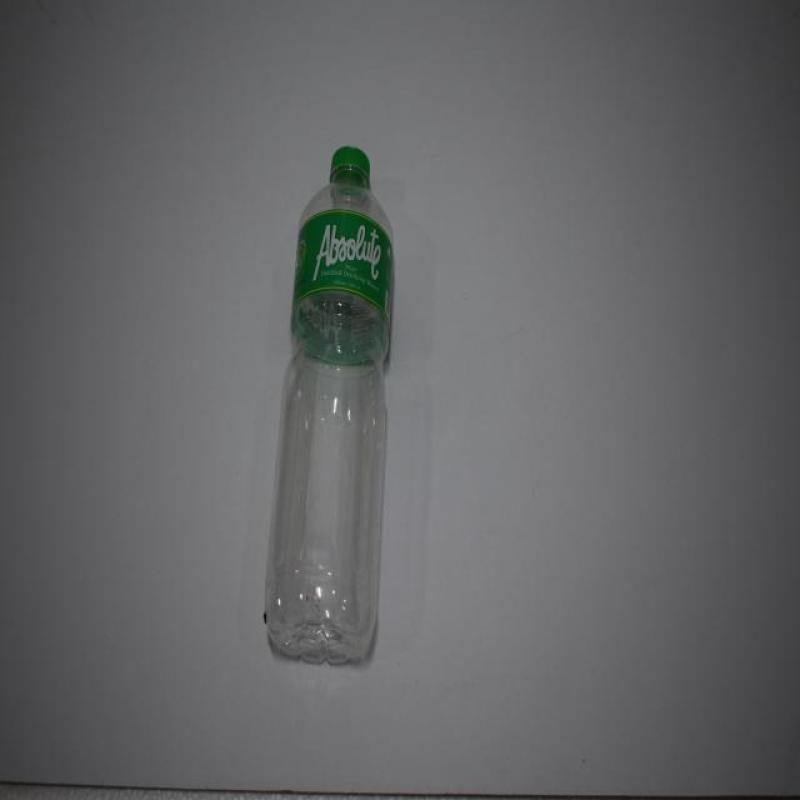botella: (264, 148, 397, 667)
